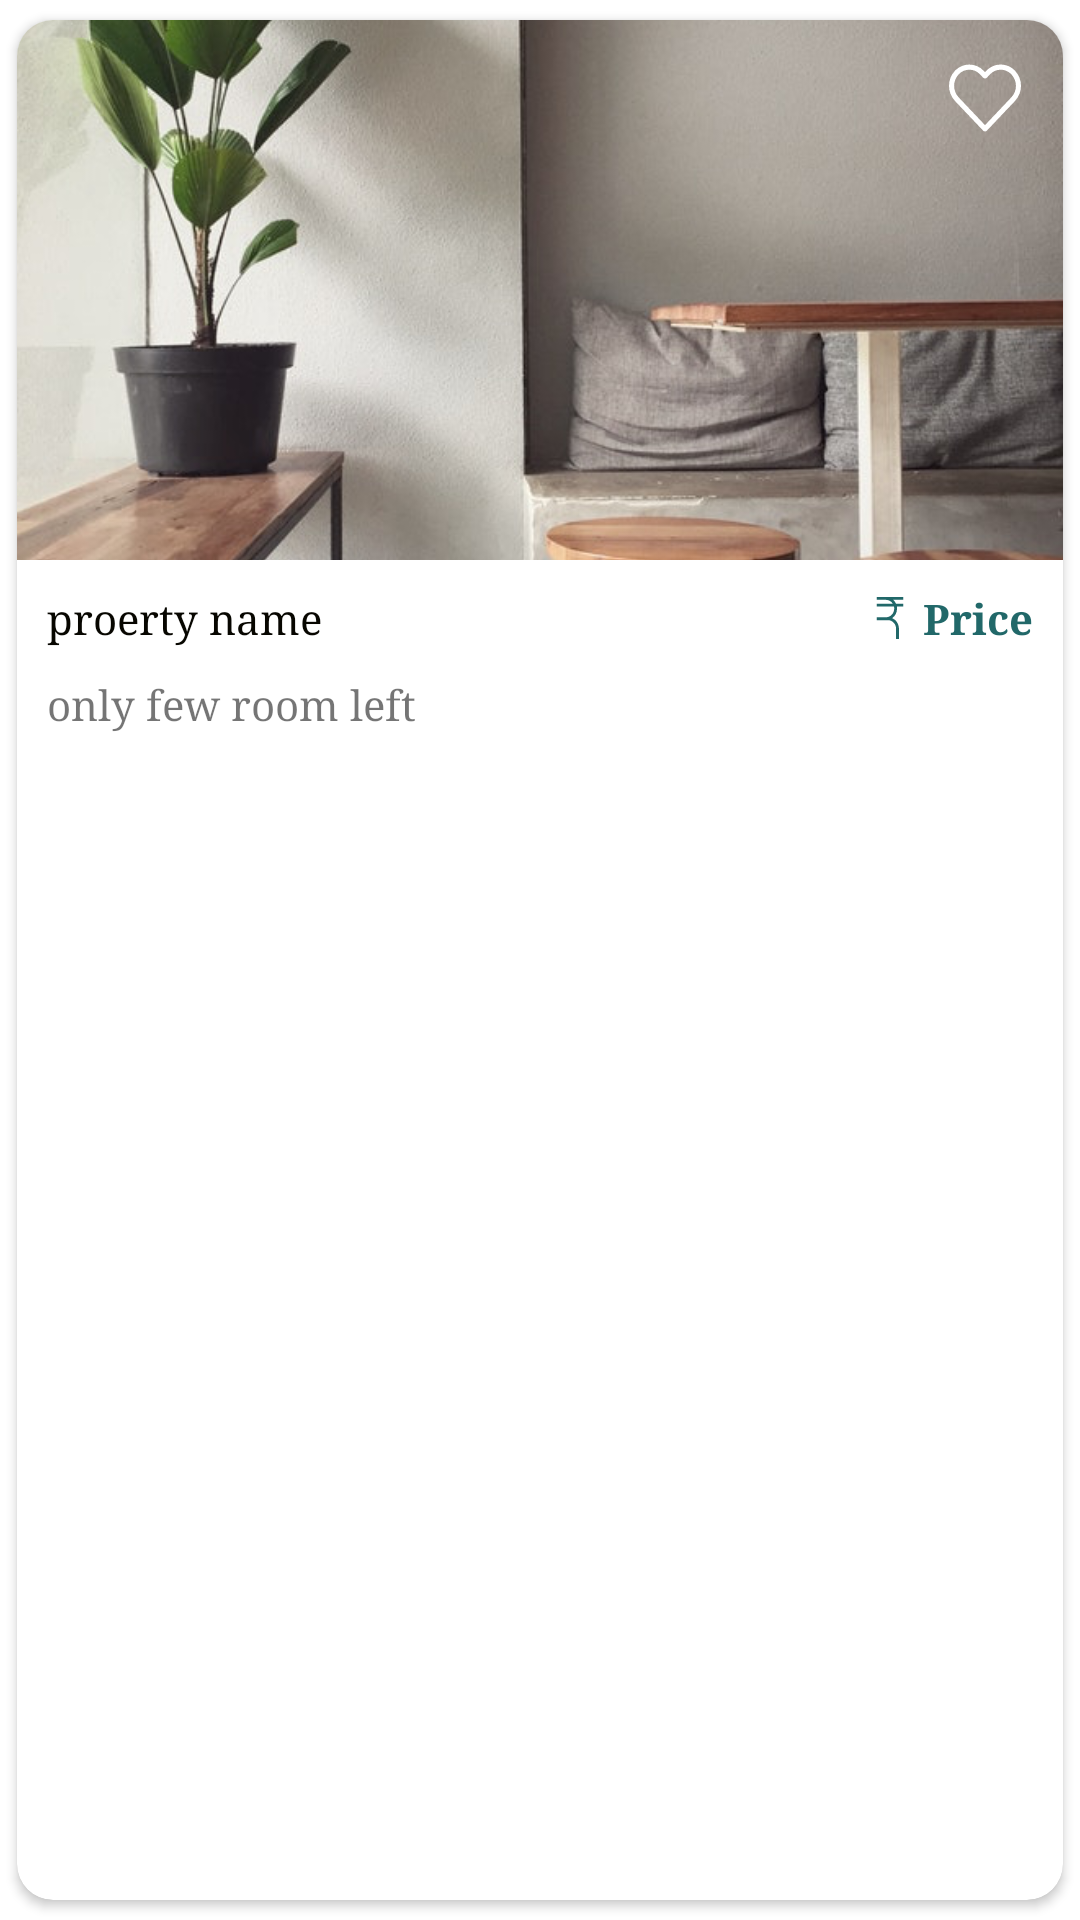

Locate icon controls on the screen. Image size 1080px x 1920px, boxes as bbox=(x1, y1, x2, y2).
heart: bbox=(949, 64, 1021, 132)
